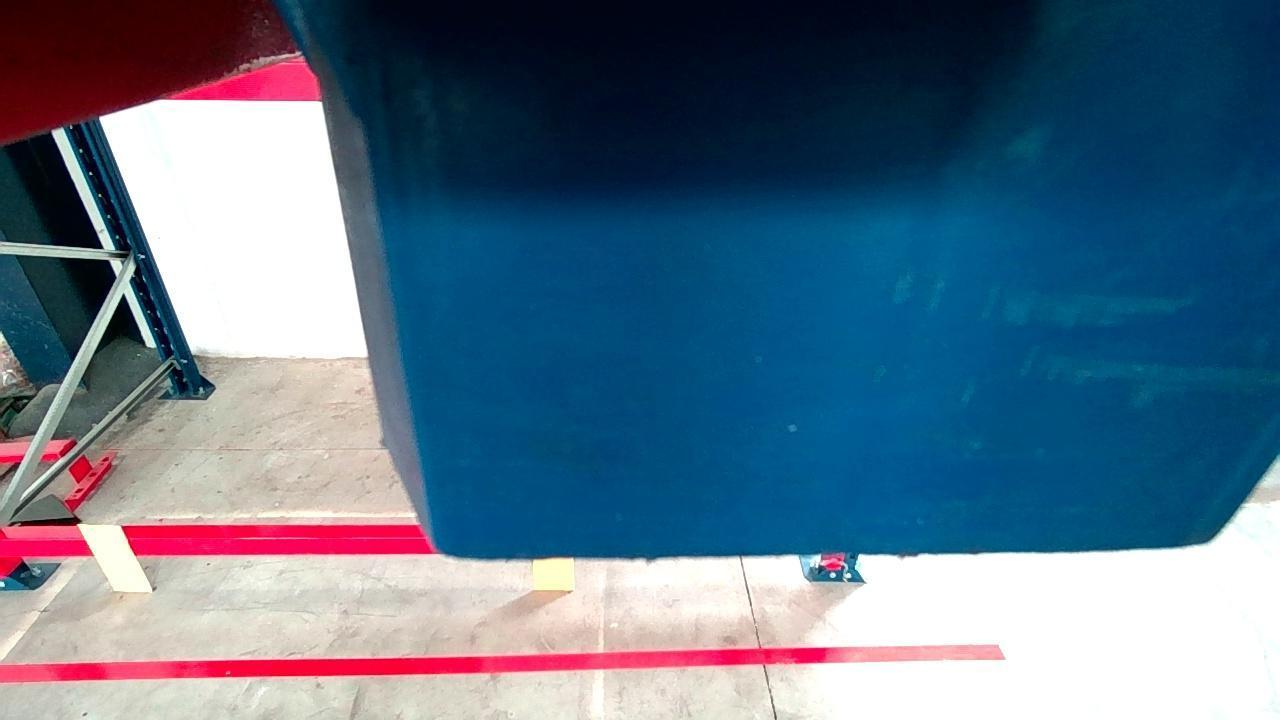h_rack: (0, 538, 430, 555)
orange_strip: (81, 526, 152, 592), (534, 558, 573, 587)
red_line: (0, 642, 1005, 683)
